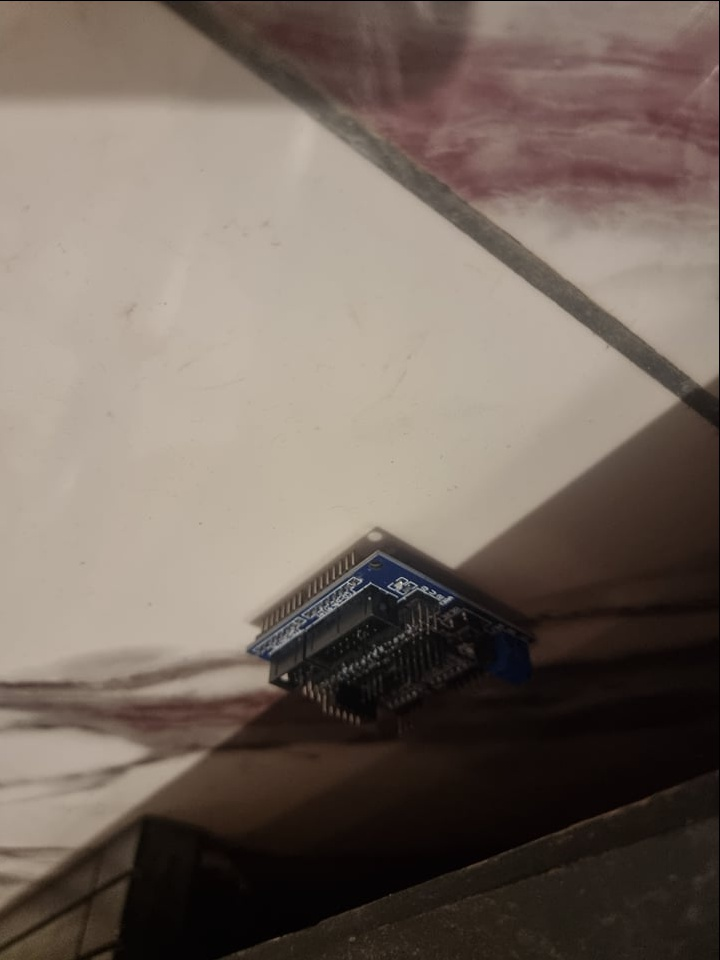5V EXPANSION: (247, 541, 539, 735)
